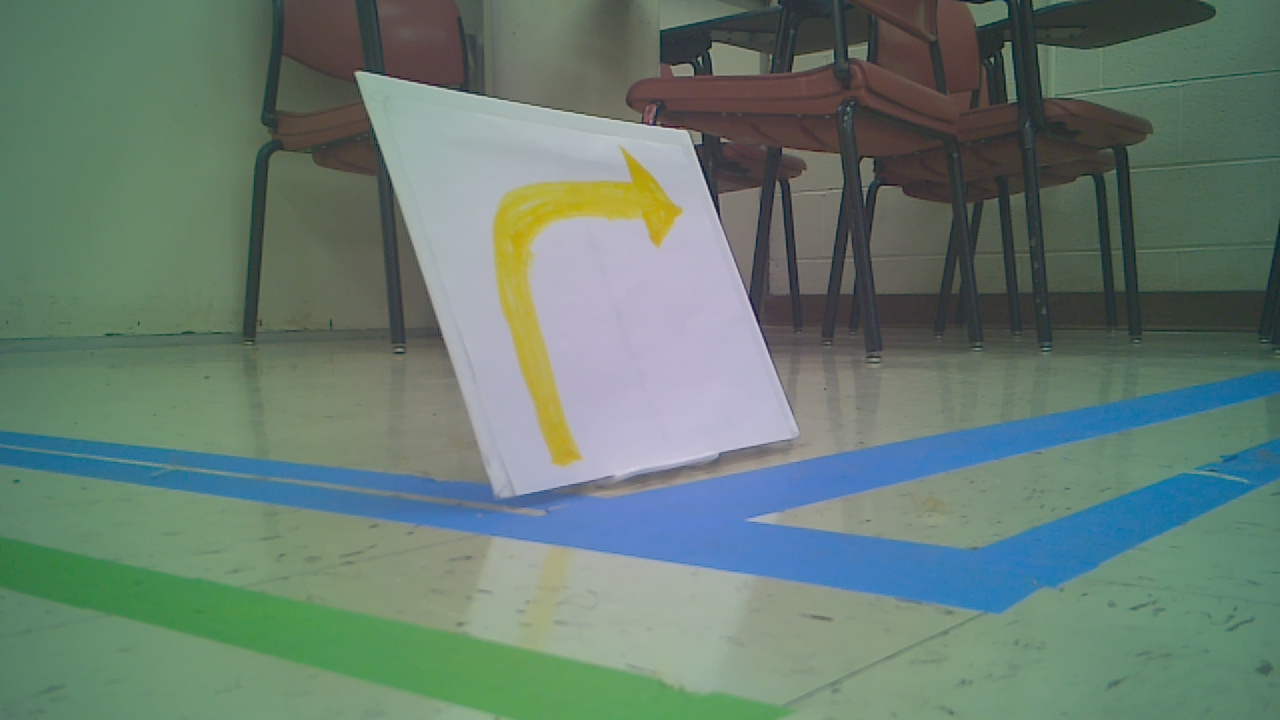right: (489, 146, 687, 467)
